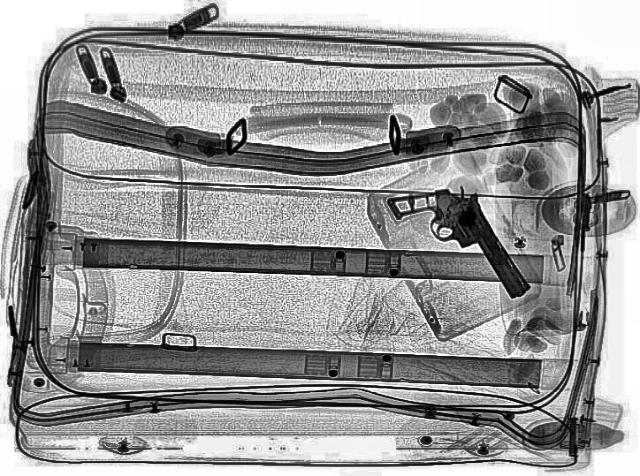Gun: (380, 175, 542, 311)
